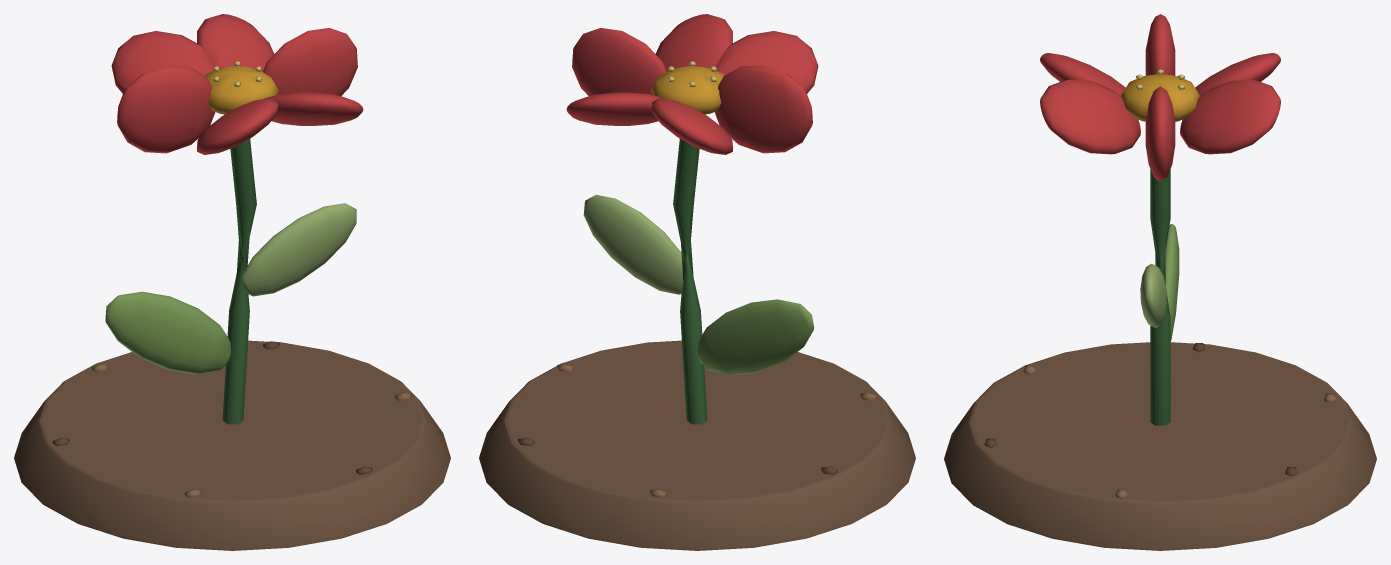
Rendered from flower_stage3_red.glb.
3 views of the same model, side by side, from view 1: azimuth 30°, elevation 25°; view 2: azimuth 150°, elevation 25°; view 3: azimuth 270°, elevation 25° (orthographic).
Bounding box in the file's own units: 0.3775 × 0.391 × 0.3775.
